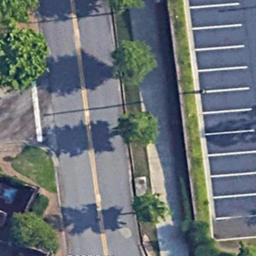Double Solid Yellow Line: (71, 1, 110, 254)
Stopline: (31, 79, 44, 144)
